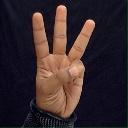hand: (31, 4, 95, 119)
